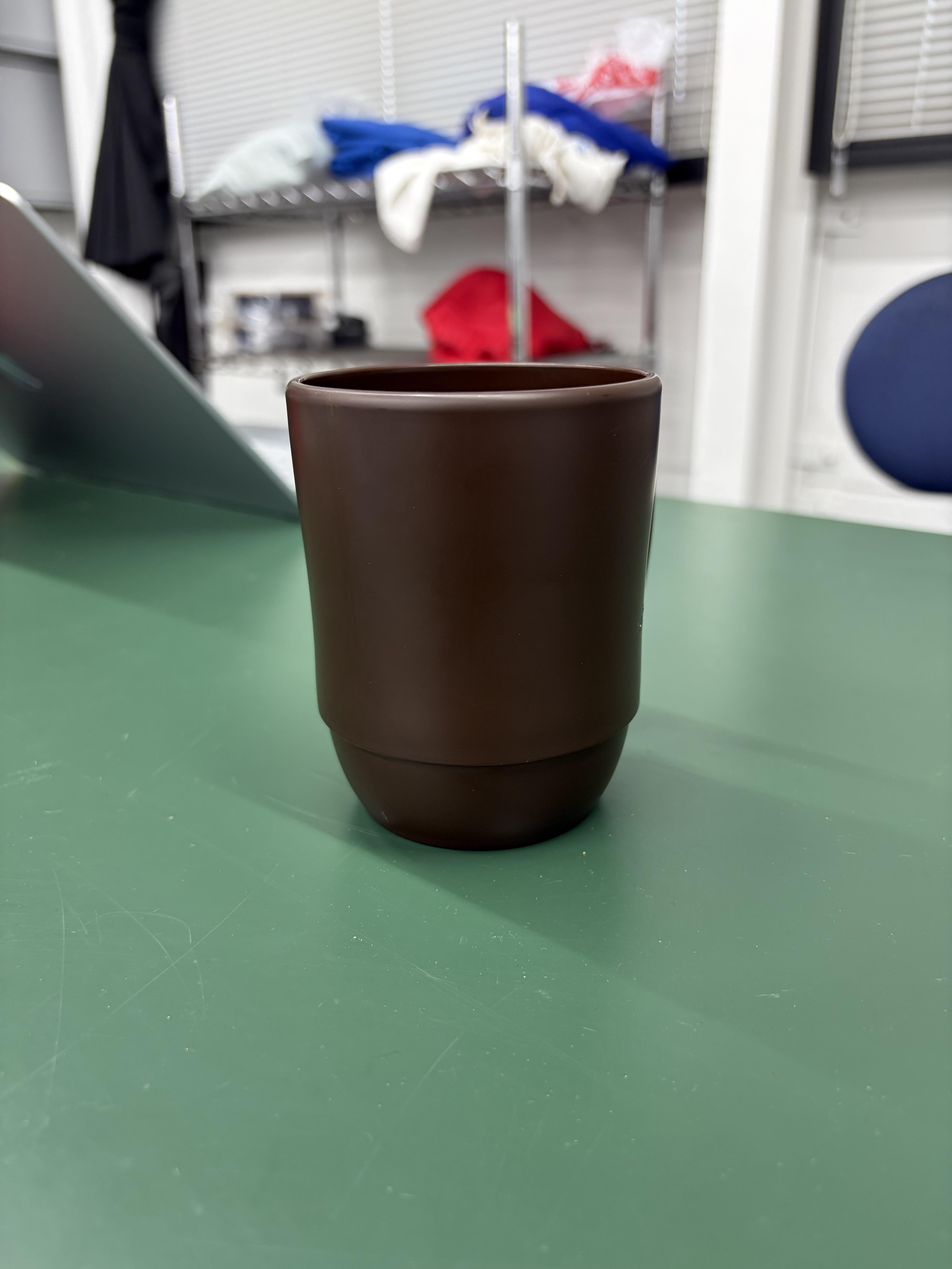mug-real100-3d100: (287, 363, 661, 849)
